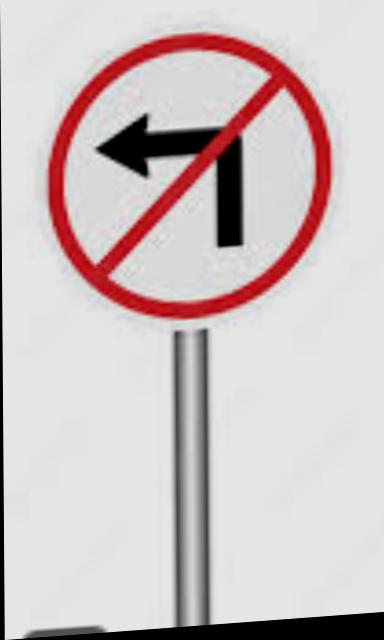not_turn_left: (27, 13, 345, 344)
